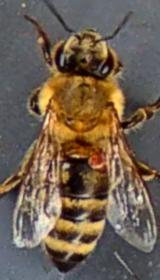varroa_mite: (76, 144, 116, 178)
